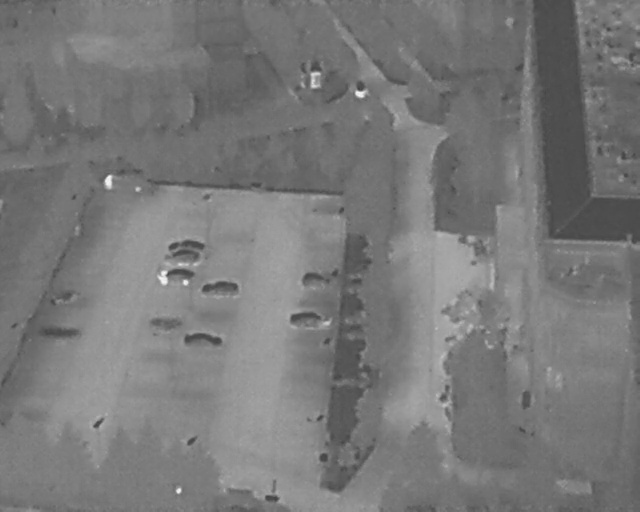Car: (200, 279, 239, 297), (183, 332, 223, 348), (158, 269, 196, 285), (289, 312, 324, 329), (164, 250, 201, 266), (301, 272, 330, 291), (169, 239, 205, 254)
